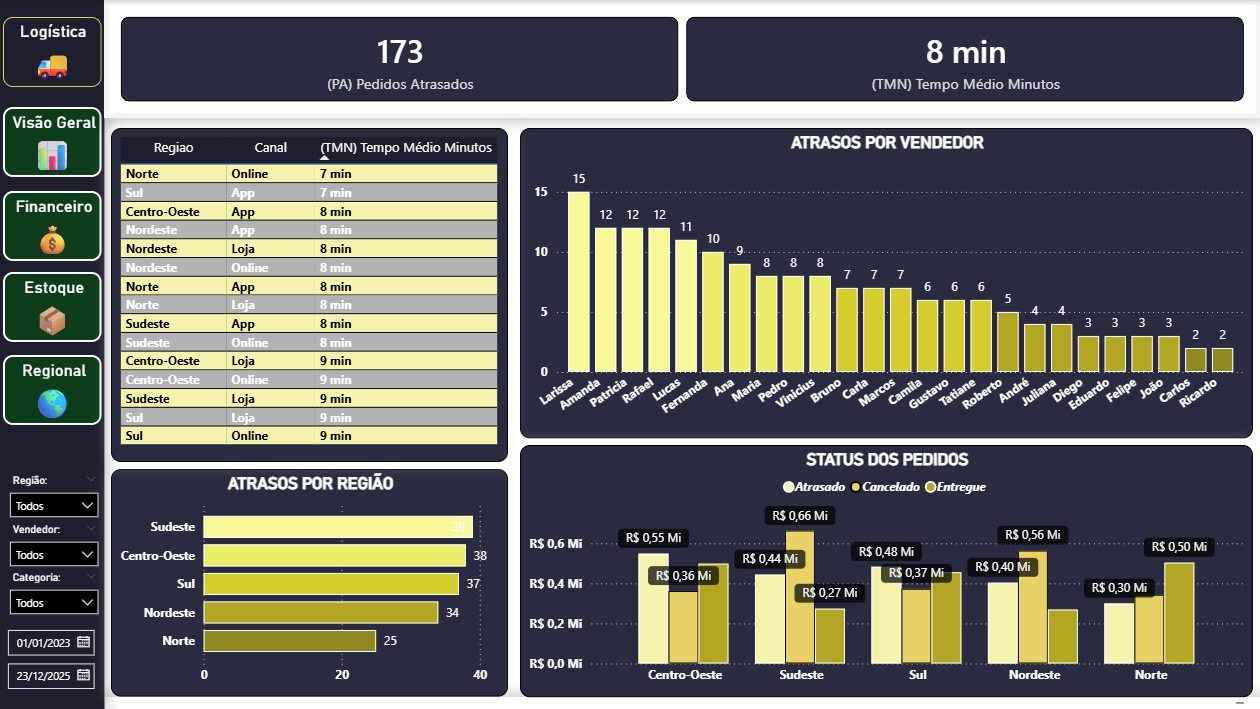

The page's visual inventory and layout, read from the dashboard file:
{"tool":"powerbi","page":{"name":"Logística","canvas":[1280,720],"ordinal":3},"visuals":[{"type":"shape","box":[0,0,106,719.8],"z":0},{"type":"actionButton","title":"Logística","box":[2.9,17.5,100.2,71],"z":1000},{"type":"actionButton","title":"Visão Geral","box":[2.9,108.9,100.2,71],"z":2000},{"type":"actionButton","title":"Financeiro","box":[2.9,193.6,100.2,71],"z":3000},{"type":"actionButton","title":"Estoque","box":[2.9,276.2,100.2,71],"z":4000},{"type":"actionButton","title":"Regional","box":[2.9,359.9,100.2,71],"z":5000},{"type":"cardVisual","fields":{"Data":["Base.(SE) Status Estoque"]},"box":[106.3,708,1173.7,12],"z":6000},{"type":"cardVisual","fields":{"Data":["Base.(PA) Pedidos Atrasados","Base.(TME) Tempo Médio Entrega"]},"box":[105.9,0,1174.1,120.2],"z":7000},{"type":"clusteredBarChart","title":"ATRASOS POR REGIÃO","fields":{"Category":["Base.Regiao"],"Y":["Base.(PA) Pedidos Atrasados"]},"box":[113,476.6,403.2,231.2],"z":8000},{"type":"clusteredColumnChart","title":"ATRASOS POR VENDEDOR","fields":{"Category":["Base.Vendedor"],"Y":["Base.(PA) Pedidos Atrasados"]},"box":[527.8,129.9,744,314.7],"z":9000},{"type":"tableEx","title":"ESTOQUE ATUAL vs ESTOQUE MINIMO","fields":{"Values":["Base.Regiao","Base.Canal","Base.(TMN) Tempo Médio Minutos"]},"box":[112.7,129.9,403,339],"z":10000},{"type":"lineClusteredColumnComboChart","title":"STATUS DOS PEDIDOS","fields":{"Series":["Base.Status Pedido"],"Y":["Base.(R) Receita Total"],"Category":["Base.Regiao"]},"box":[527.8,451.7,744,255.8],"z":11000},{"type":"slicer","fields":{"Values":["Base.Regiao"]},"box":[0,476,110,59],"z":12000},{"type":"slicer","fields":{"Values":["Base.Vendedor"]},"box":[0,526,110,59],"z":13000},{"type":"slicer","fields":{"Values":["Base.Categoria"]},"box":[0,575,110,59],"z":14000},{"type":"slicer","fields":{"Values":["Base.Data"]},"box":[0,634,105,72],"z":15000}]}

Visuals, with their boxes in screenshot pixels (x1, y1, x2, y2), scaled from the page's 1280x720 canvas onto the 1260x709 screenshot:
shape: (x1=0, y1=0, x2=104, y2=708)
"Logística" actionButton: (x1=3, y1=17, x2=101, y2=87)
"Visão Geral" actionButton: (x1=3, y1=107, x2=101, y2=177)
"Financeiro" actionButton: (x1=3, y1=191, x2=101, y2=261)
"Estoque" actionButton: (x1=3, y1=272, x2=101, y2=342)
"Regional" actionButton: (x1=3, y1=354, x2=101, y2=424)
cardVisual - Base.(SE) Status Estoque: (x1=105, y1=697, x2=1259, y2=708)
cardVisual - Base.(PA) Pedidos Atrasados x Base.(TME) Tempo Médio Entrega: (x1=104, y1=0, x2=1259, y2=118)
"ATRASOS POR REGIÃO" clusteredBarChart: (x1=111, y1=469, x2=508, y2=697)
"ATRASOS POR VENDEDOR" clusteredColumnChart: (x1=520, y1=128, x2=1252, y2=438)
"ESTOQUE ATUAL vs ESTOQUE MINIMO" tableEx: (x1=111, y1=128, x2=508, y2=462)
"STATUS DOS PEDIDOS" lineClusteredColumnComboChart: (x1=520, y1=445, x2=1252, y2=697)
slicer - Base.Regiao: (x1=0, y1=469, x2=108, y2=527)
slicer - Base.Vendedor: (x1=0, y1=518, x2=108, y2=576)
slicer - Base.Categoria: (x1=0, y1=566, x2=108, y2=624)
slicer - Base.Data: (x1=0, y1=624, x2=103, y2=695)
